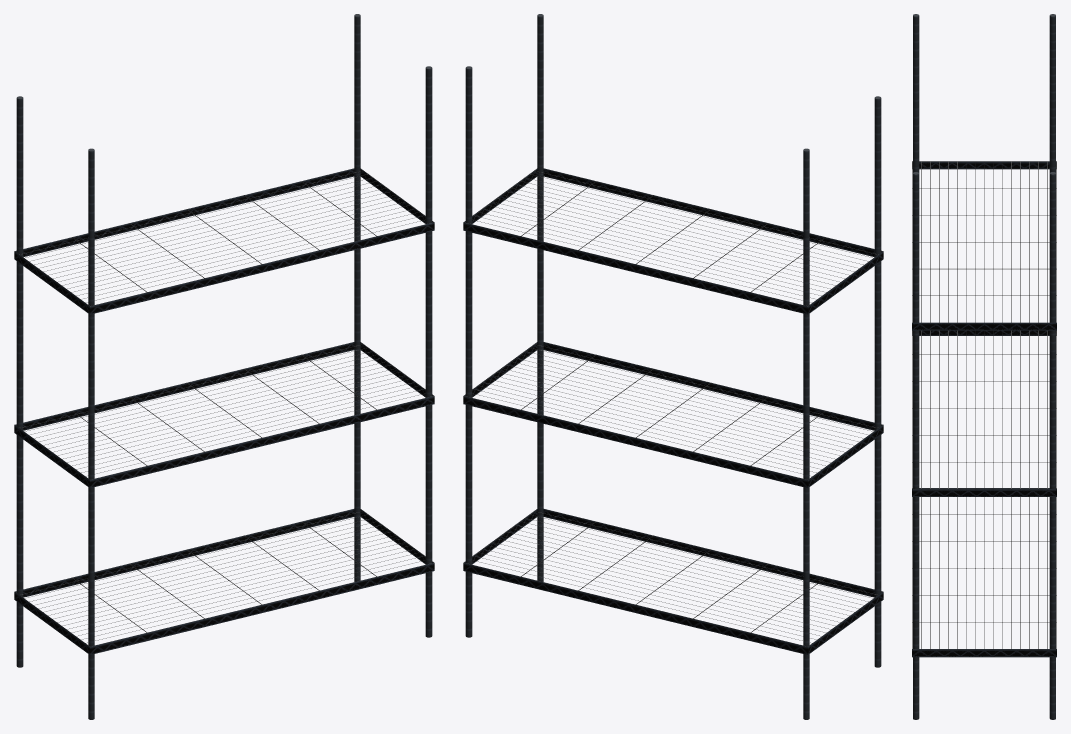
Rendered from Shelf.fbx.
3 views of the same model, side by side, from view 1: azimuth 30°, elevation 25°; view 2: azimuth 150°, elevation 25°; view 3: azimuth 270°, elevation 25° (orthographic). The views are drawn at different scales.
Parts seen in each view (by area): view 1: polySurface3, polySurface2, polySurface1, pCylinder4, pCylinder2, pCylinder3, pCylinder1; view 2: polySurface3, polySurface2, polySurface1, pCylinder3, pCylinder1, pCylinder4, pCylinder2; view 3: polySurface3, polySurface2, polySurface1, pCylinder3, pCylinder4, pCylinder1, pCylinder2.
Part boxes in pixels (x1,y1,x2,y2): polySurface3: [14, 168, 434, 314]; polySurface2: [14, 342, 434, 488]; polySurface1: [14, 509, 434, 654]; pCylinder4: [425, 66, 432, 637]; pCylinder2: [16, 96, 23, 667]; pCylinder3: [354, 14, 360, 581]; pCylinder1: [88, 148, 94, 719]; polySurface3: [463, 168, 883, 314]; polySurface2: [463, 342, 883, 488]; polySurface1: [463, 509, 883, 654]; pCylinder3: [465, 66, 472, 637]; pCylinder1: [874, 96, 881, 667]; pCylinder4: [537, 14, 543, 581]; pCylinder2: [803, 148, 809, 719]; polySurface3: [912, 161, 1056, 330]; polySurface2: [912, 330, 1056, 496]; polySurface1: [912, 488, 1056, 657]; pCylinder3: [1049, 172, 1055, 719]; pCylinder4: [913, 172, 919, 719]; pCylinder1: [913, 14, 919, 172]; pCylinder2: [1049, 14, 1055, 172].
Size of the model in its own units: 120 by 190 by 45.75.
4 materials, 3 textured.
